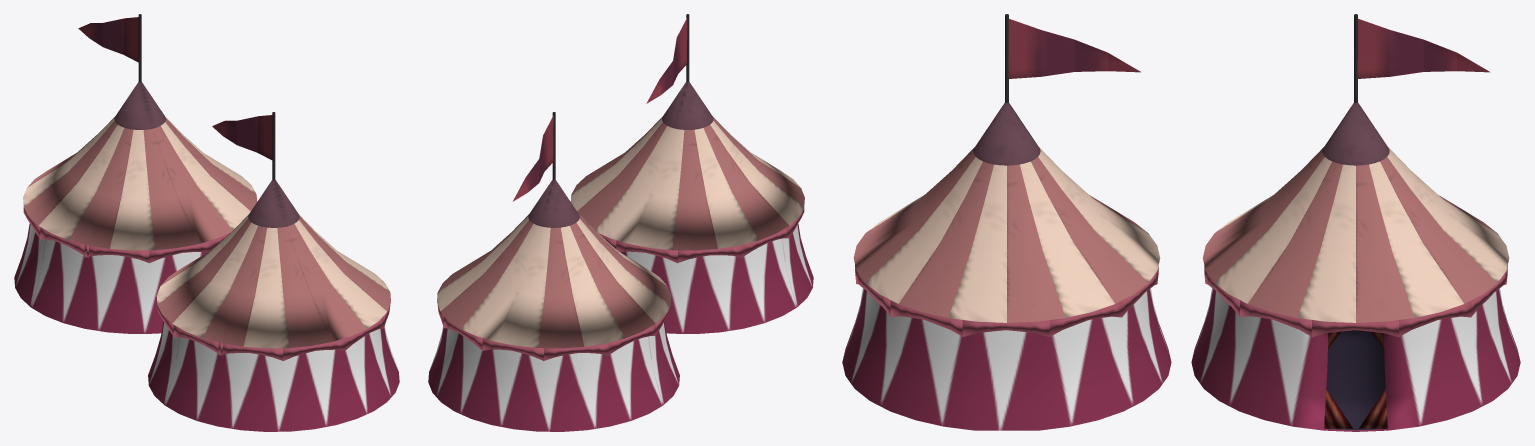
The model's file is tent.glb.
The picture shows the model from 3 angles, left to right: view 1: azimuth 30°, elevation 25°; view 2: azimuth 150°, elevation 25°; view 3: azimuth 270°, elevation 25°; orthographic projection. The views are drawn at different scales.
Parts seen in each view (by area): view 1: Cylinder.001, Cylinder; view 2: Cylinder, Cylinder.001; view 3: Cylinder, Cylinder.001.
Boxes of the visible parts, bbox=[...] form: Cylinder.001: bbox=[148, 112, 399, 431]; Cylinder: bbox=[14, 14, 257, 333]; Cylinder: bbox=[428, 112, 679, 431]; Cylinder.001: bbox=[570, 14, 813, 333]; Cylinder: bbox=[1191, 14, 1520, 431]; Cylinder.001: bbox=[842, 14, 1171, 430].
Bounding box in the file's own units: 3.23 × 3.77 × 6.65.
Materials: 2 (2 with a texture image).
